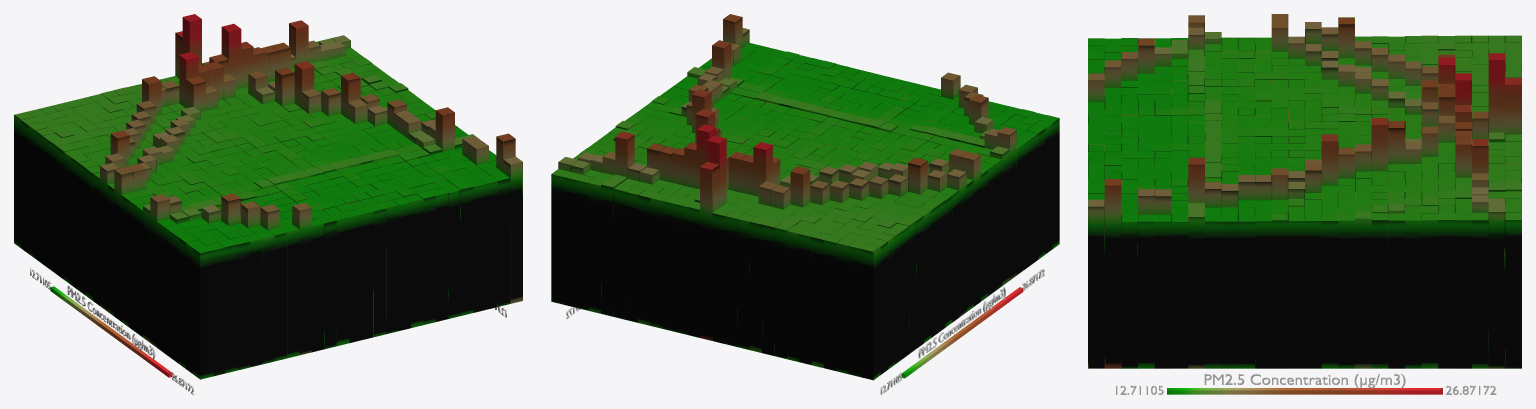
3 renders of one model, left to right at view 1: azimuth 30°, elevation 25°; view 2: azimuth 150°, elevation 25°; view 3: azimuth 270°, elevation 25°, orthographic. The views are drawn at different scales.
Visible parts, largest first — view 1: Cube.473, Cube.002, Text.001; view 2: Cube.473, Cube.002, Text.001; view 3: Cube.473, Cube.001, Text.003.
Boxes of the visible parts, x1,y1,x2,y2 form: Cube.473: [14, 14, 522, 379]; Cube.002: [50, 286, 172, 377]; Text.001: [67, 285, 155, 359]; Cube.473: [551, 14, 1059, 380]; Cube.002: [901, 287, 1023, 378]; Text.001: [918, 287, 1005, 358]; Cube.473: [1088, 14, 1521, 368]; Cube.001: [1167, 388, 1442, 394]; Text.003: [1204, 373, 1405, 388].
Bounding box in the file's own units: 52 × 33.36 × 52.
Materials: 3 (2 with a texture image).
